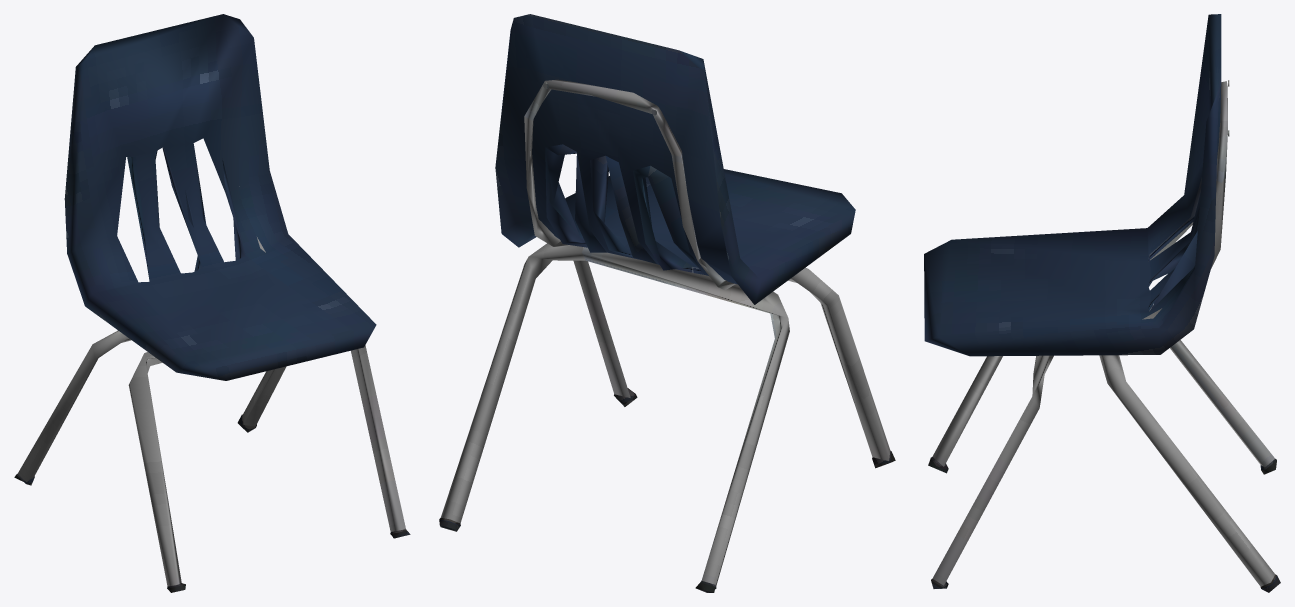
The model's file is SchoolChair_01.glb.
The picture shows the model from 3 angles, left to right: view 1: azimuth 30°, elevation 25°; view 2: azimuth 150°, elevation 25°; view 3: azimuth 270°, elevation 25°; orthographic projection. The views are drawn at different scales.
Parts seen in each view (by area): view 1: SchoolChair_01; view 2: SchoolChair_01; view 3: SchoolChair_01.
Boxes of the visible parts, <box> form: SchoolChair_01: <box>14,14,410,592</box>; SchoolChair_01: <box>439,14,895,592</box>; SchoolChair_01: <box>924,14,1280,592</box>.
Bounding box in the file's own units: 0.5659 × 1 × 0.6692.
1 material, 1 textured.
